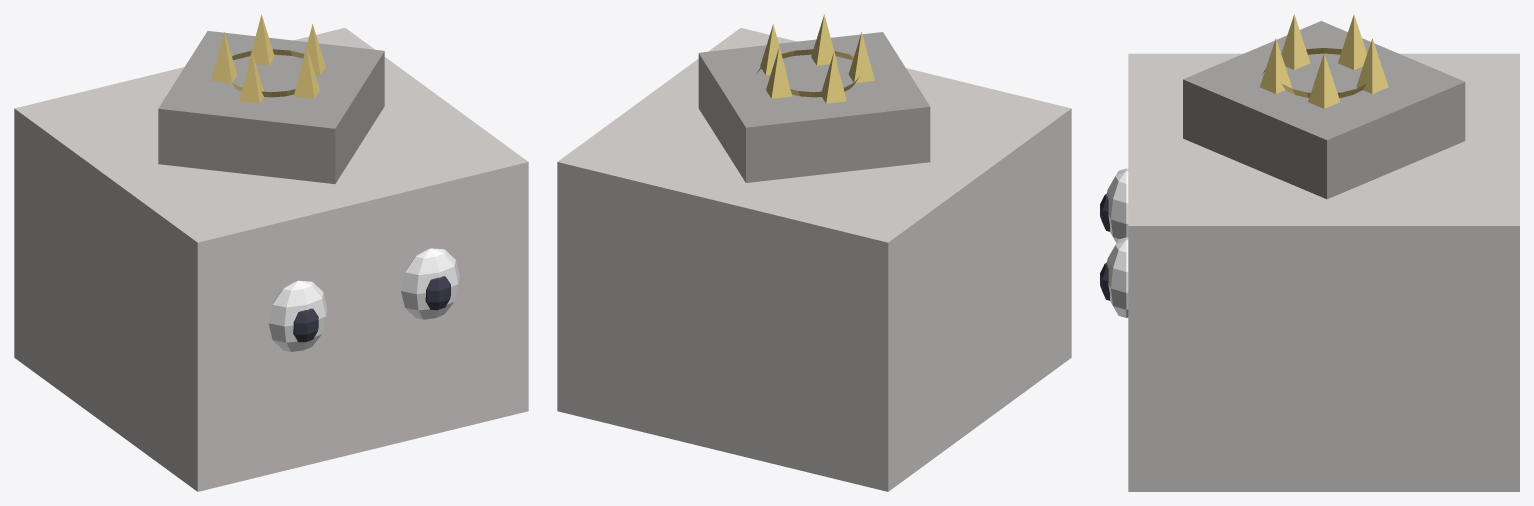
The model's file is genesaur.glb.
The picture shows the model from 3 angles, left to right: view 1: azimuth 30°, elevation 25°; view 2: azimuth 150°, elevation 25°; view 3: azimuth 270°, elevation 25°; orthographic projection. The views are drawn at different scales.
Visible parts, largest first — view 1: genesaur; view 2: genesaur; view 3: genesaur.
Part boxes in pixels (x1,y1,x2,y2): genesaur: (14, 14, 528, 491); genesaur: (557, 14, 1071, 491); genesaur: (1100, 14, 1519, 491).
Bounding box in the file's own units: 1.12 × 1.14 × 1.16.
